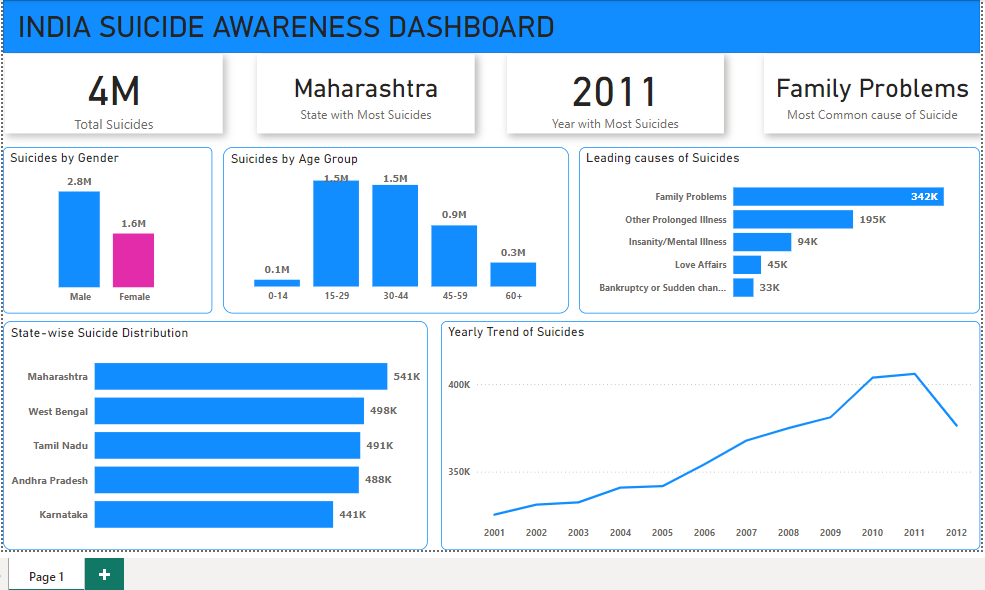

The dashboard page shown, as its layout file describes it:
{"tool":"powerbi","page":{"name":"Page 1","canvas":[1280,720],"ordinal":0},"visuals":[{"type":"lineChart","title":"Yearly Trend of Suicides","fields":{"Category":["IndiaSuicides.year"],"Y":["Sum(IndiaSuicides.total)"]},"box":[573.5,420.6,705.9,300],"z":0},{"type":"barChart","title":"State-wise Suicide Distribution","fields":{"Category":["IndiaSuicides.state"],"Y":["Sum(IndiaSuicides.total)"]},"box":[0,420.6,555.9,300],"z":1000},{"type":"columnChart","title":"Suicides by Gender","fields":{"Category":["IndiaSuicides.gender"],"Y":["Sum(IndiaSuicides.total)"]},"box":[0,192.6,273.5,217.6],"z":2000},{"type":"columnChart","title":"Suicides by Age Group","fields":{"Category":["IndiaSuicides.age_group"],"Y":["Sum(IndiaSuicides.total)"]},"box":[288.2,192.6,452.9,217.6],"z":3000},{"type":"barChart","title":"Leading causes of Suicides","fields":{"Category":["IndiaSuicides.cause"],"Y":["Sum(IndiaSuicides.total)"]},"box":[754.4,192.6,525,217.6],"z":4000},{"type":"card","title":" ","fields":{"Values":["IndiaSuicides.Total Suicides"]},"box":[2.9,70.6,285.3,104.4],"z":5000},{"type":"card","fields":{"Values":["IndiaSuicides.Measure"]},"box":[332.4,70.6,285.3,104.4],"z":6000},{"type":"card","fields":{"Values":["IndiaSuicides.Year with Most Suicides"]},"box":[660.3,70.6,283.8,104.4],"z":7000},{"type":"card","fields":{"Values":["IndiaSuicides.Most Common cause of Suicide"]},"box":[995.6,70.6,283.8,104.4],"z":8000},{"type":"shape","box":[0,0,1279.4,69.1],"z":9000},{"type":"textbox","box":[14.7,7.4,802.9,55.9],"z":10000}]}

Visuals, with their boxes in screenshot pixels (x1, y1, x2, y2):
"Yearly Trend of Suicides" lineChart: bbox(438, 319, 973, 547)
"State-wise Suicide Distribution" barChart: bbox(3, 319, 424, 547)
"Suicides by Gender" columnChart: bbox(3, 146, 210, 311)
"Suicides by Age Group" columnChart: bbox(221, 146, 565, 311)
"Leading causes of Suicides" barChart: bbox(575, 146, 973, 311)
" " card: bbox(5, 54, 221, 133)
card - IndiaSuicides.Measure: bbox(255, 54, 471, 133)
card - IndiaSuicides.Year with Most Suicides: bbox(504, 54, 719, 133)
card - IndiaSuicides.Most Common cause of Suicide: bbox(758, 54, 973, 133)
shape: bbox(3, 0, 973, 52)
textbox: bbox(14, 6, 623, 48)
